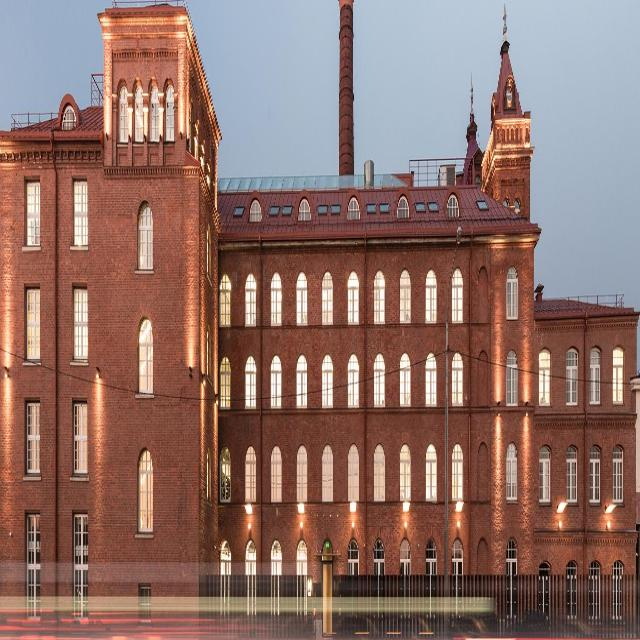Railing: (410, 158, 464, 187)
door: (506, 534, 518, 620), (614, 558, 626, 618), (589, 556, 601, 616), (566, 558, 578, 618), (295, 544, 307, 598), (399, 541, 411, 595), (452, 555, 462, 616), (220, 543, 231, 597), (322, 544, 333, 598), (246, 548, 257, 600), (348, 544, 358, 598), (375, 544, 385, 598), (540, 564, 550, 618), (271, 548, 281, 600), (426, 541, 436, 583)
wall: (0, 0, 640, 638)
windows: (218, 174, 408, 193), (73, 516, 88, 618), (26, 516, 39, 619), (138, 453, 152, 535), (26, 178, 40, 249), (73, 178, 87, 249), (138, 322, 152, 393), (74, 290, 88, 360), (26, 404, 40, 474), (72, 404, 86, 474), (139, 202, 153, 272), (27, 290, 40, 360), (540, 443, 552, 508), (566, 344, 578, 406), (614, 344, 626, 406), (539, 348, 551, 409), (589, 342, 601, 403), (566, 446, 578, 507), (590, 444, 602, 505), (614, 446, 626, 507), (295, 446, 307, 501), (219, 275, 231, 329), (295, 272, 307, 326), (399, 268, 411, 322), (219, 354, 231, 408), (399, 443, 411, 497), (167, 81, 176, 148), (245, 358, 256, 412), (295, 355, 306, 409), (399, 352, 410, 406), (220, 445, 231, 499), (150, 85, 160, 144), (246, 275, 257, 328), (426, 268, 437, 321), (322, 446, 333, 499), (426, 443, 437, 496), (507, 445, 518, 498), (322, 272, 333, 324), (246, 450, 257, 502), (270, 358, 280, 412), (452, 448, 462, 502), (271, 275, 281, 328), (451, 268, 461, 321), (322, 355, 332, 408), (346, 355, 356, 408), (374, 355, 384, 408), (348, 446, 358, 499), (375, 446, 385, 499), (506, 265, 516, 318), (508, 354, 518, 407), (348, 272, 358, 324), (375, 272, 385, 324), (426, 352, 436, 404), (450, 352, 460, 404), (271, 450, 281, 502), (134, 90, 144, 141), (120, 87, 128, 142), (139, 584, 150, 622)
